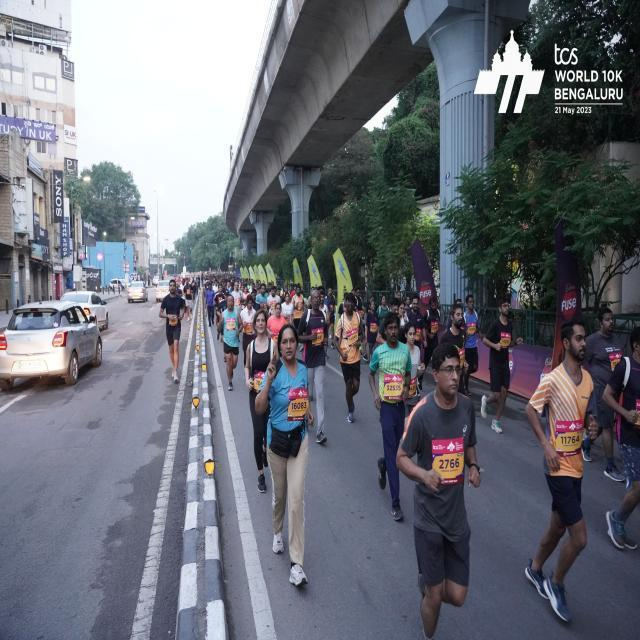dorsal: (432, 438, 464, 486), (554, 420, 584, 454), (288, 387, 308, 422), (384, 372, 404, 402)
